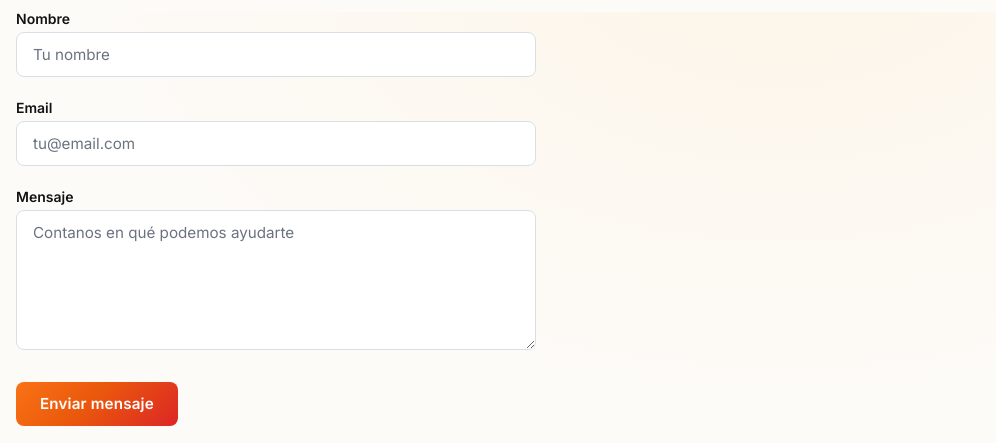
Test: ContactForm › shows an inline confirmation after submitting the form and clears the fields
The image size is (996, 443).
Step 1. Type "Ada Lovelace" into the field labelled "Nombre" → coordinates (276, 54), box [16,32,536,77]
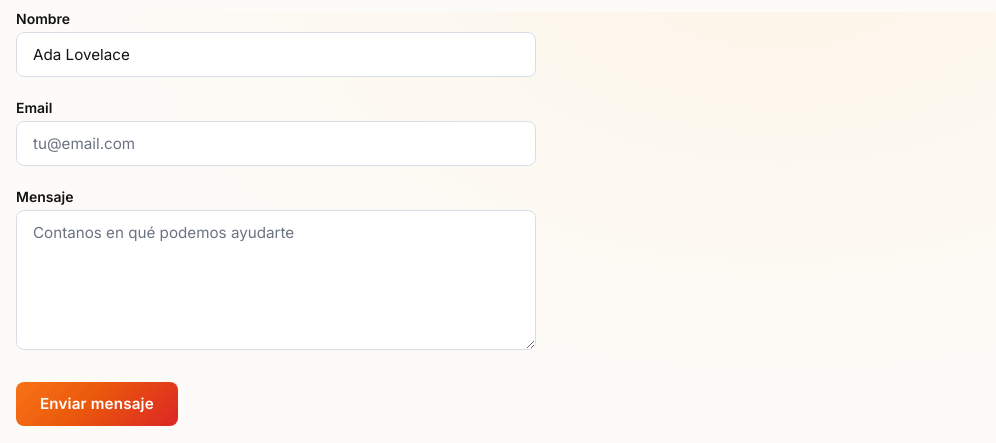
Step 2. Type "ada@example.com" into the field labelled "Email" → coordinates (276, 144), box [16,121,536,166]
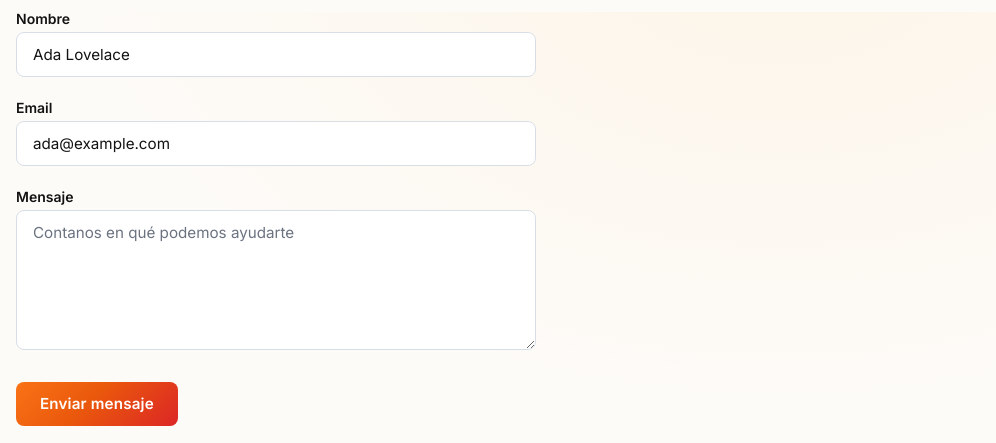
Step 3. Type "Tengo una pregunta sobre un curso." into the text box labelled "Mensaje" → coordinates (276, 280), box [16,210,536,350]
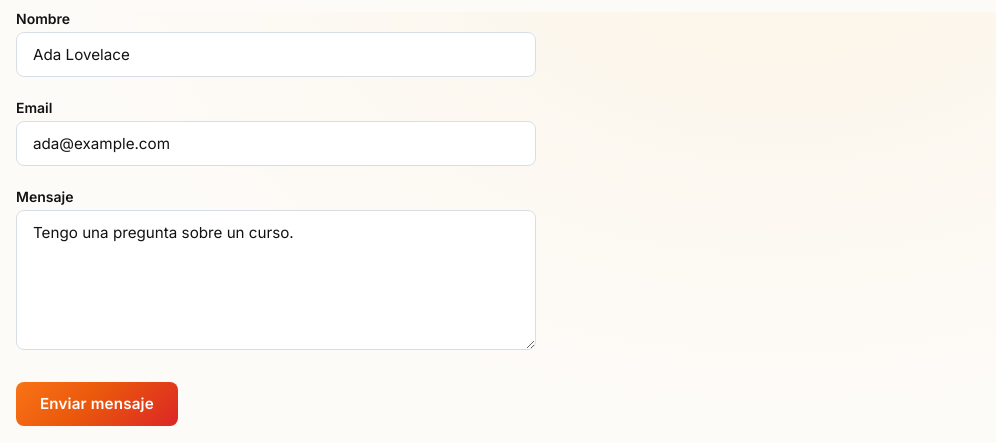
Step 4. Click the button "Enviar mensaje" → coordinates (97, 404), box [16,382,178,426]
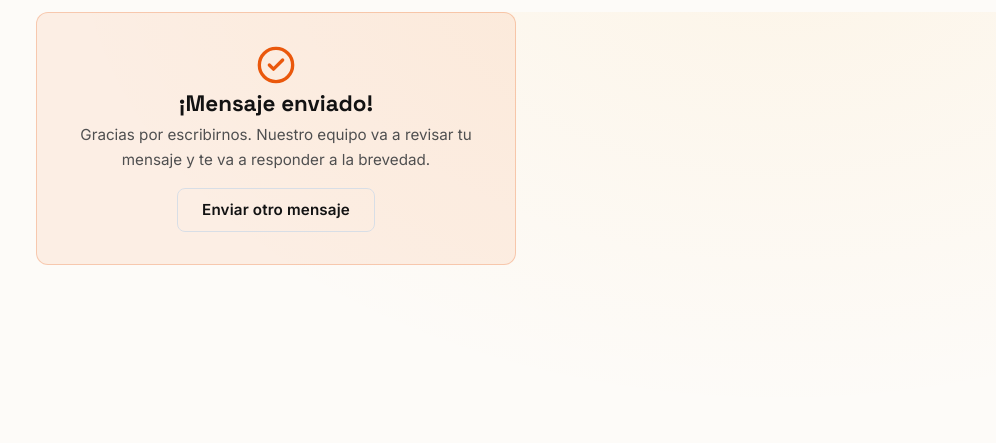
expect the heading "¡Mensaje enviado!" is shown: met, box [179,93,373,115]
expect the label labelled "Nombre" is gone: met
